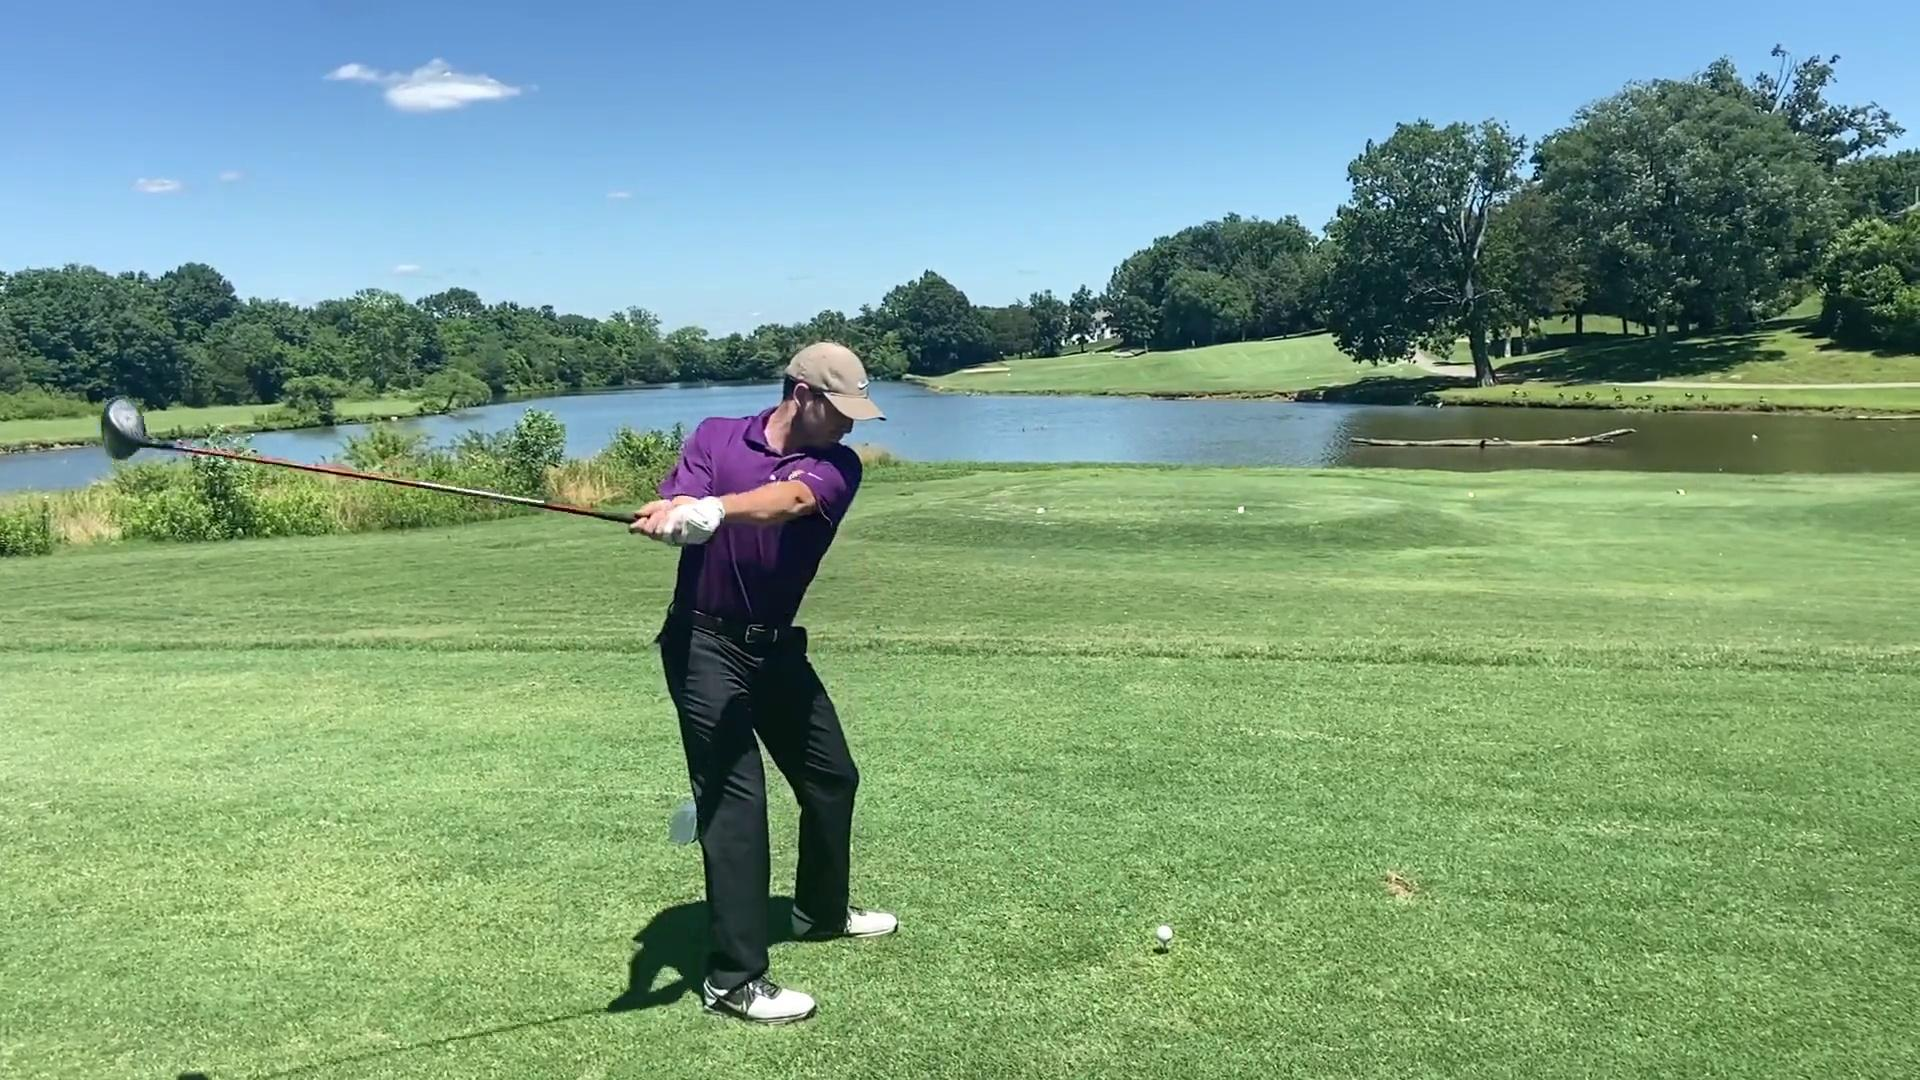ClubHead: (98, 392, 178, 464)
GolfBall: (1154, 924, 1175, 945)
